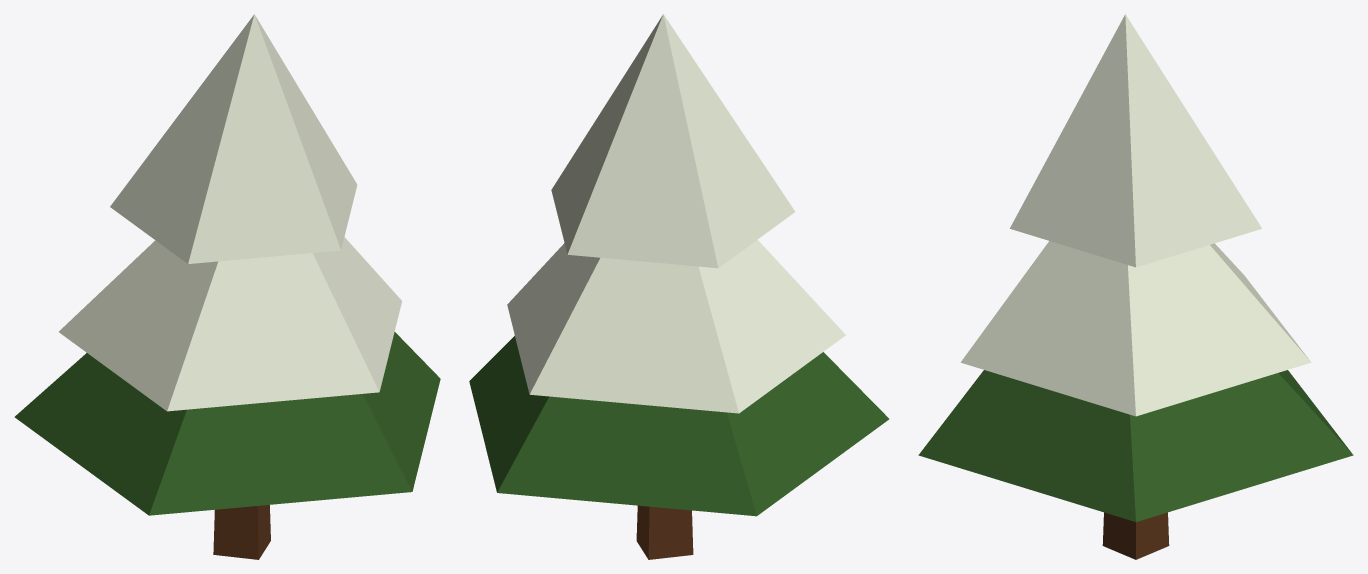
File: SnowPine.fbx
The picture shows the model from 3 angles, left to right: view 1: azimuth 30°, elevation 25°; view 2: azimuth 150°, elevation 25°; view 3: azimuth 270°, elevation 25°; orthographic projection.
Parts seen in each view (by area): view 1: SnowPine; view 2: SnowPine; view 3: SnowPine.
Boxes of the visible parts, box(x1,y1,x2,y2) form: SnowPine: box(14, 14, 440, 559); SnowPine: box(469, 14, 889, 559); SnowPine: box(918, 14, 1353, 559).
Bounding box in the file's own units: 56.08 × 80 × 58.97.
